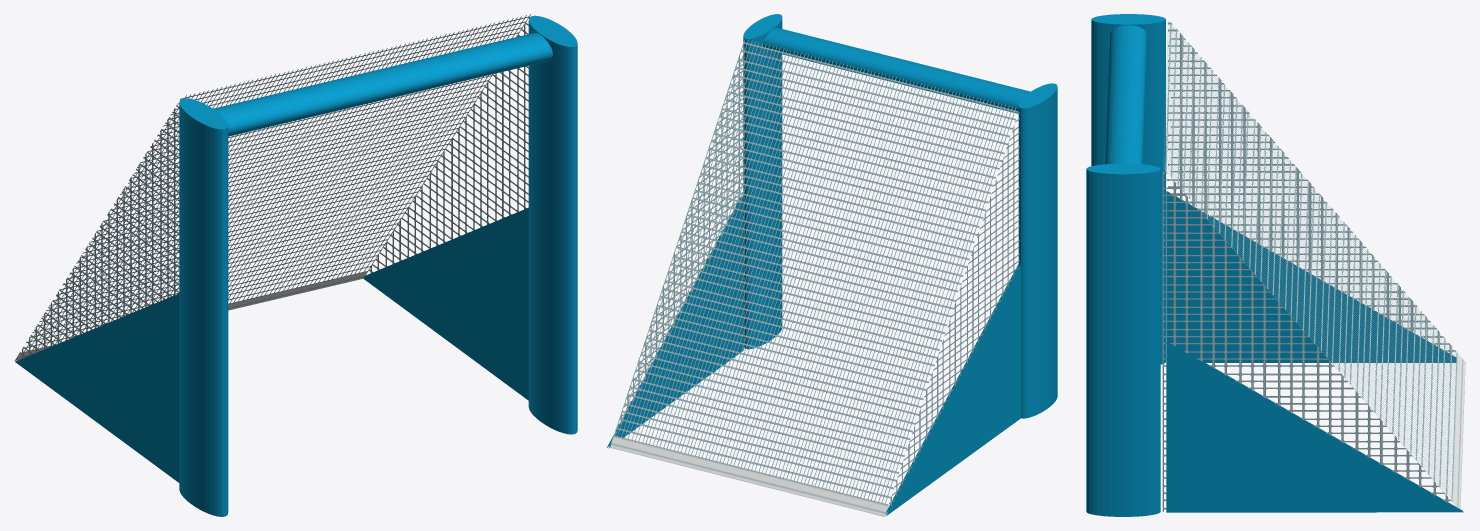
The model's file is leftgoal.obj.
3 views of the same model, side by side, from view 1: azimuth 30°, elevation 25°; view 2: azimuth 150°, elevation 25°; view 3: azimuth 270°, elevation 25° (orthographic). The views are drawn at different scales.
Visible parts, largest first — view 1: Cylinder; view 2: Cylinder; view 3: Cylinder.
Boxes of the visible parts, box(x1,y1,x2,y2) form: Cylinder: box(14, 14, 577, 516); Cylinder: box(607, 14, 1057, 516); Cylinder: box(1086, 14, 1465, 516).
Size of the model in its own units: 1 by 1 by 1.
